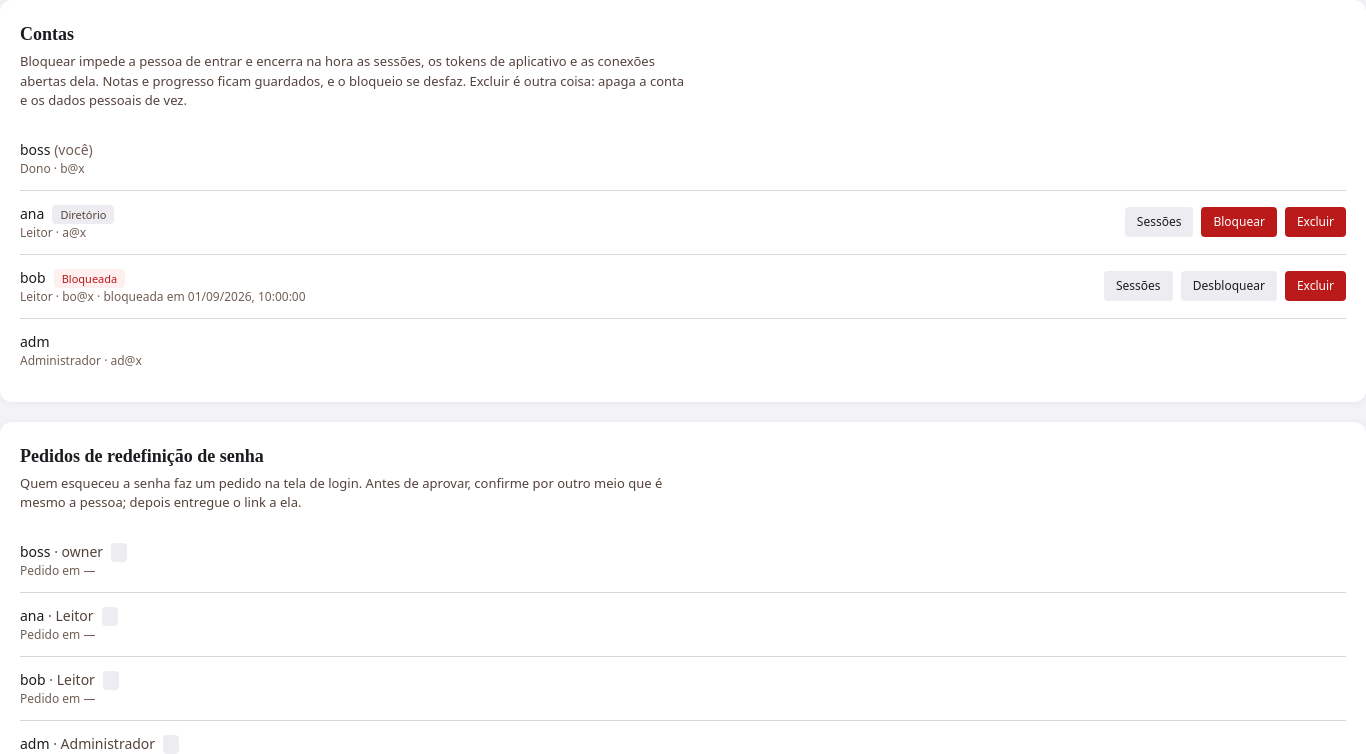
Test: AccountsTab: the sessions of an account › ends all of them after asking
Click the button with aria-label "Sessões de ana" at point(1159, 222), box [1125,207,1193,237]
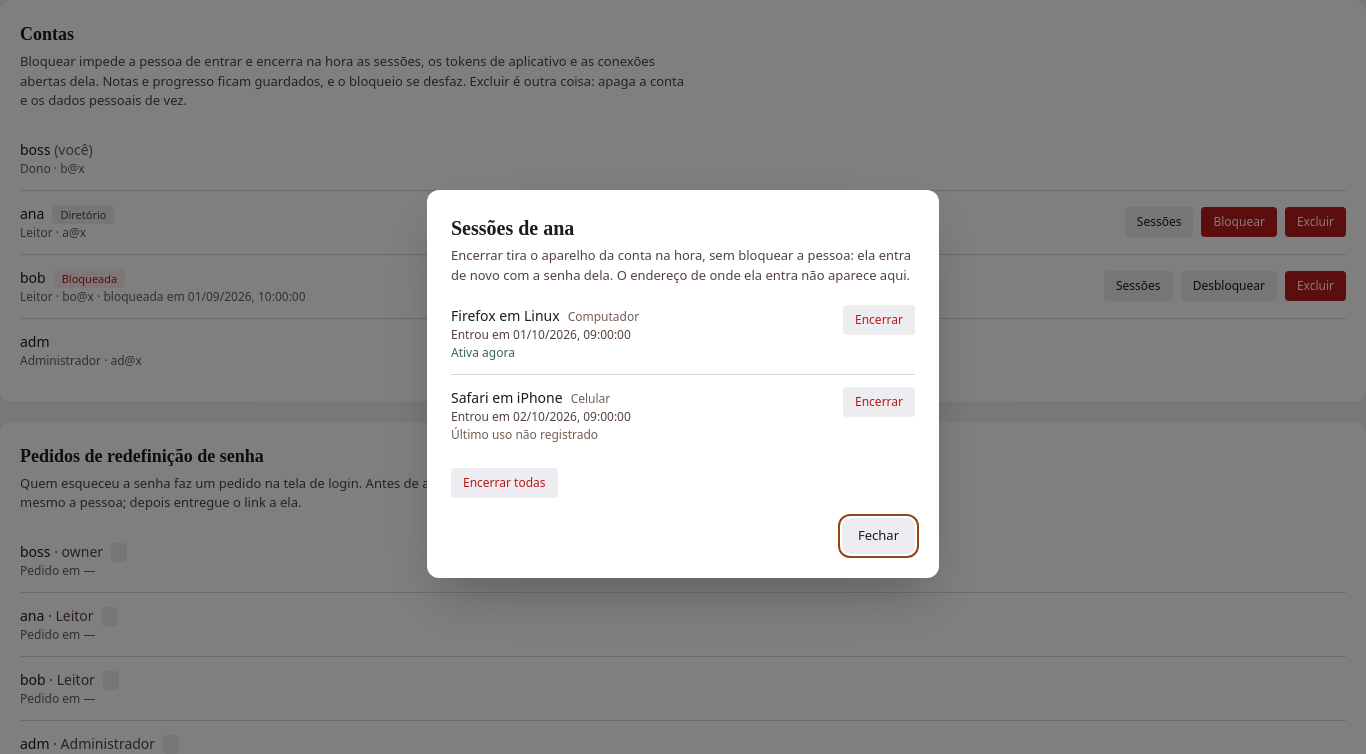
Click the button "Encerrar todas" at point(504, 483), box [451,468,558,498]
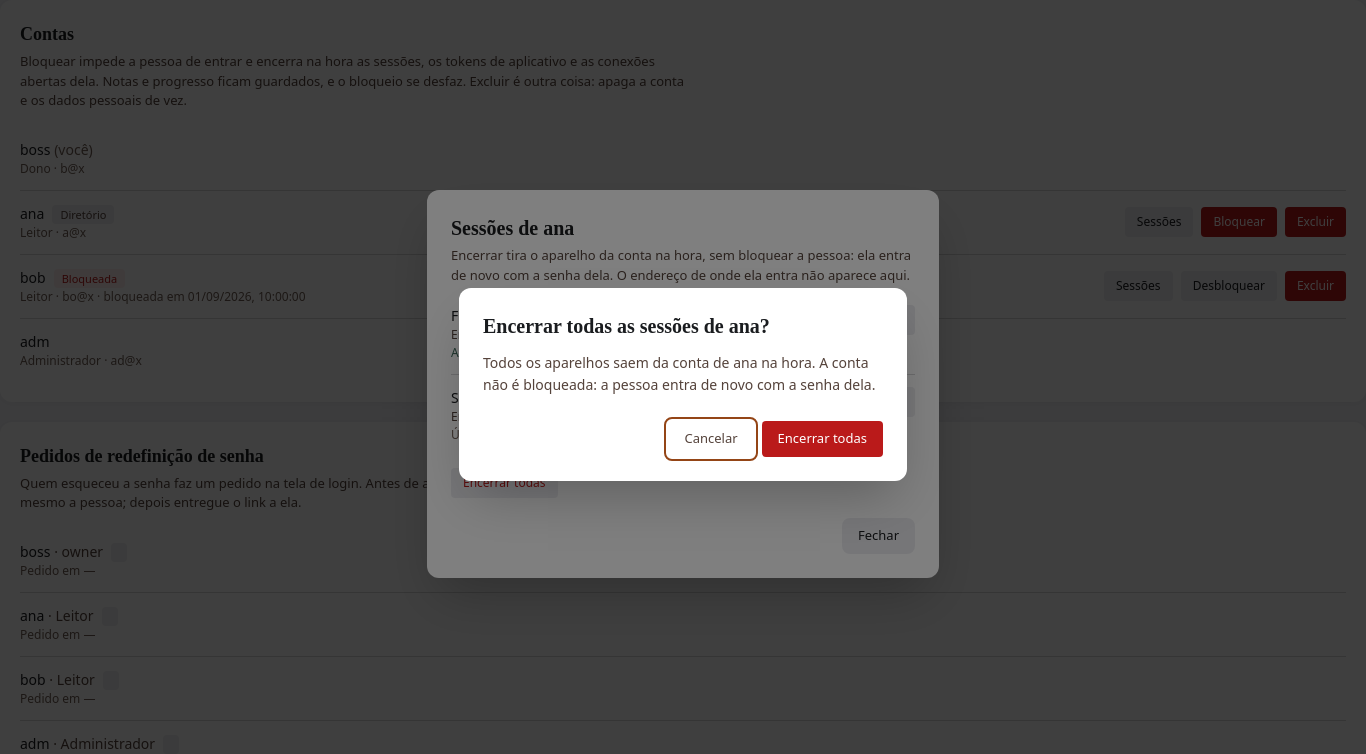
Now the dialog named "Encerrar todas as sessões de ana?" shows "Todos os aparelhos saem", box [483,352,649,372]
Click the button "Encerrar todas" at point(822, 439), box [762,421,883,456]
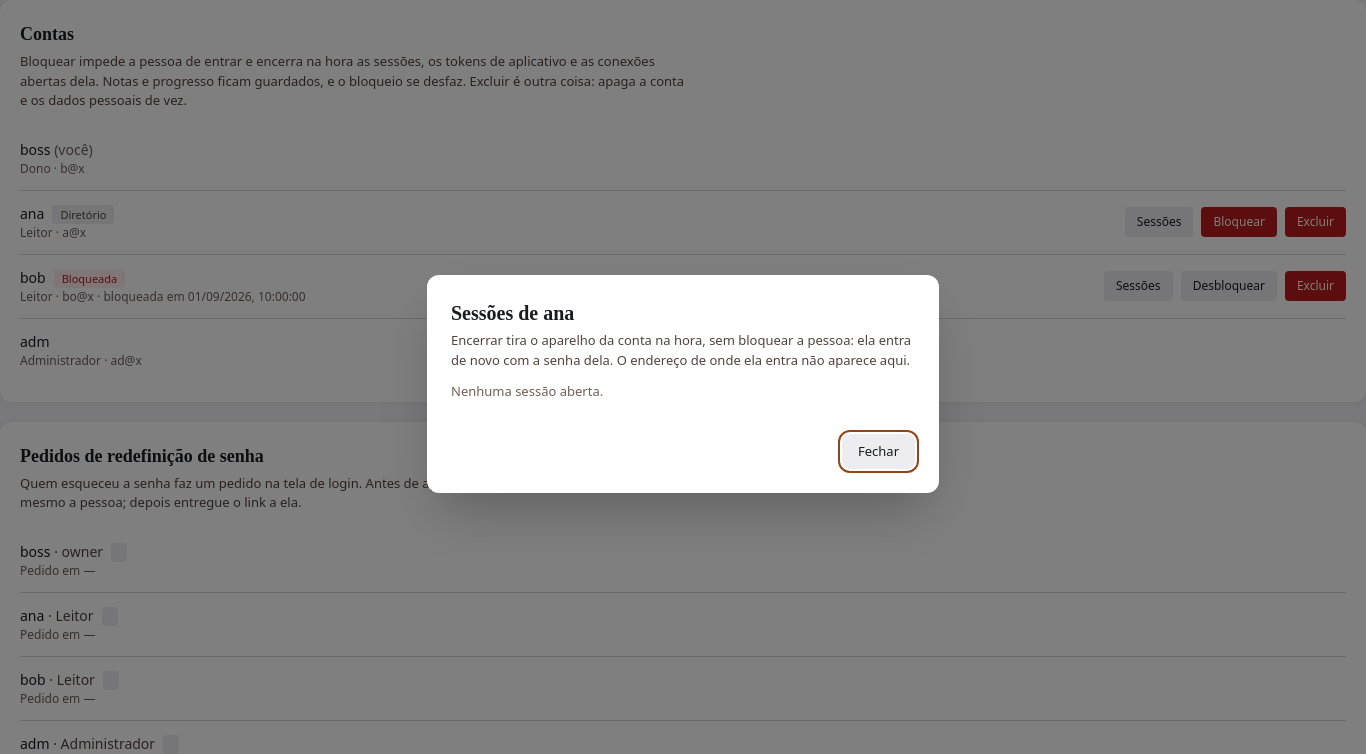
Now the dialog shows "Nenhuma sessão aberta.", box [451,382,603,400]
